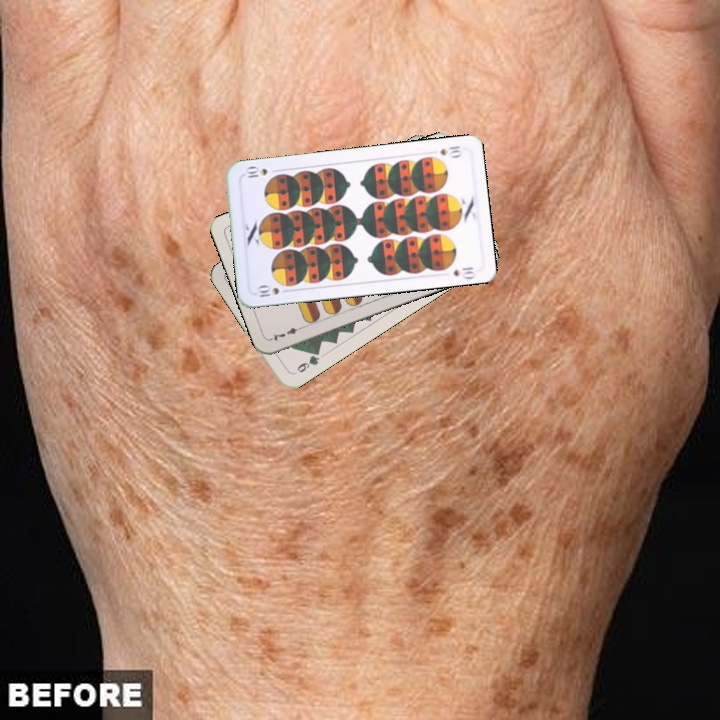E7: (267, 322, 306, 344)
G9: (289, 346, 322, 377)
S10: (252, 282, 292, 300), (436, 142, 464, 160)
